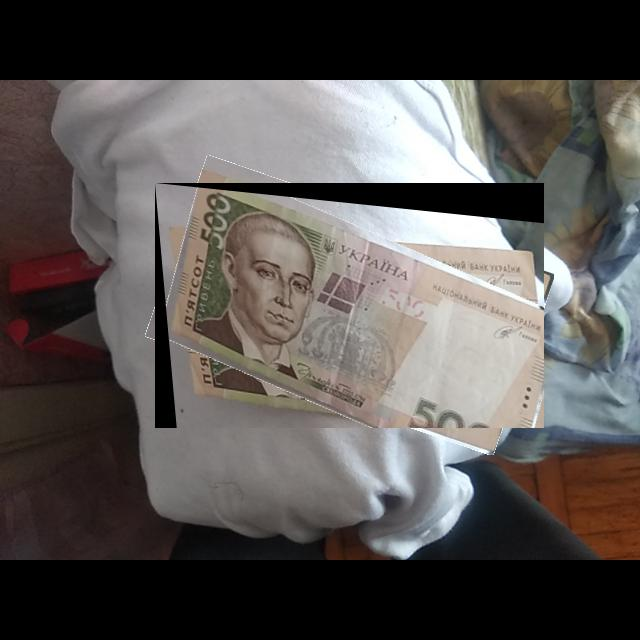500uah: (155, 183, 545, 429)
